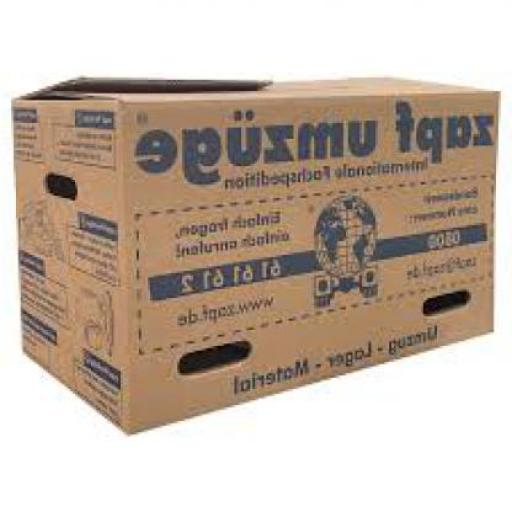cardboard: (16, 73, 503, 432)
